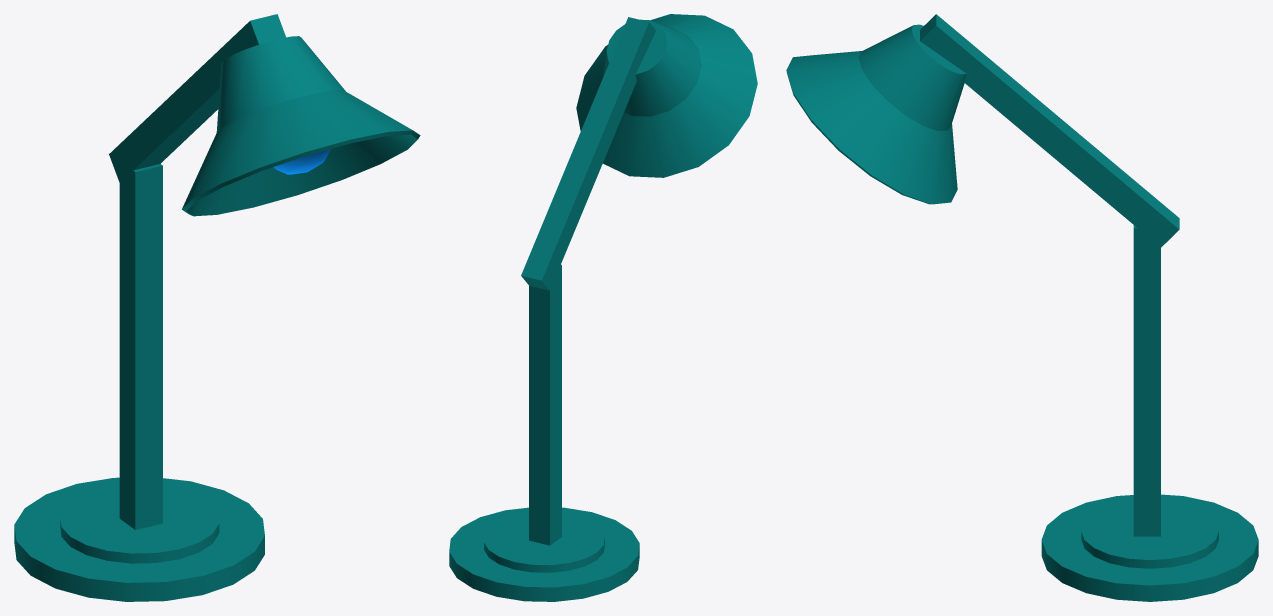
Rendered from Lampada_da_tav.fbx.
3 views of the same model, side by side, from view 1: azimuth 30°, elevation 25°; view 2: azimuth 150°, elevation 25°; view 3: azimuth 270°, elevation 25° (orthographic). The views are drawn at different scales.
Visible parts, largest first — view 1: lampada_da_tavolo; view 2: lampada_da_tavolo; view 3: lampada_da_tavolo.
Boxes of the visible parts, x1,y1,x2,y2 form: lampada_da_tavolo: [14, 14, 420, 601]; lampada_da_tavolo: [449, 14, 757, 601]; lampada_da_tavolo: [786, 14, 1258, 601].
Size of the model in its own units: 59.39 by 162 by 129.
